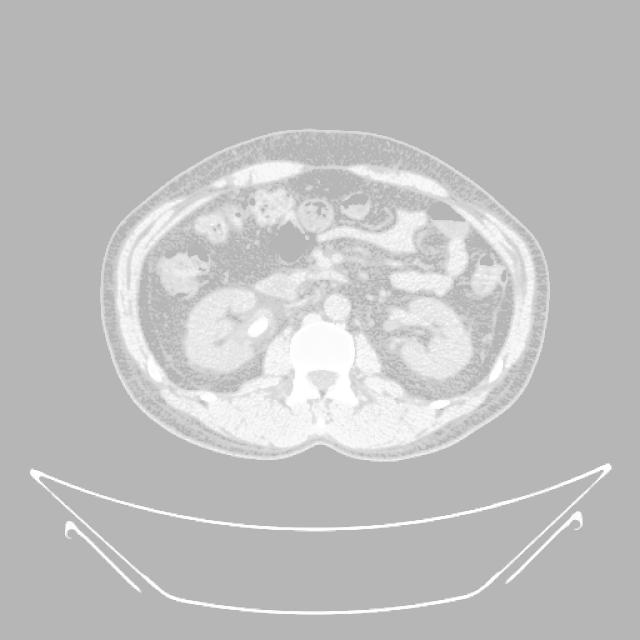STONE: (200, 134, 510, 360)
